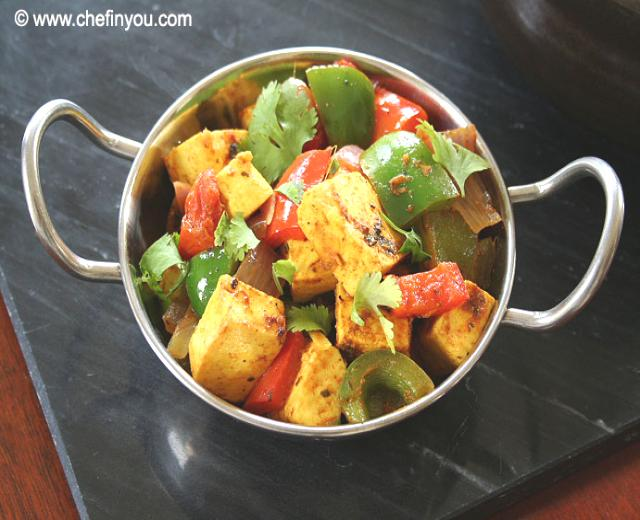kadai paneer: (131, 56, 505, 428)
